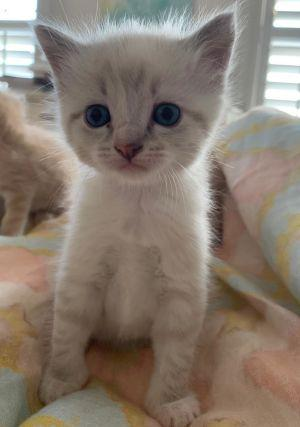siamese: (31, 1, 245, 201)
